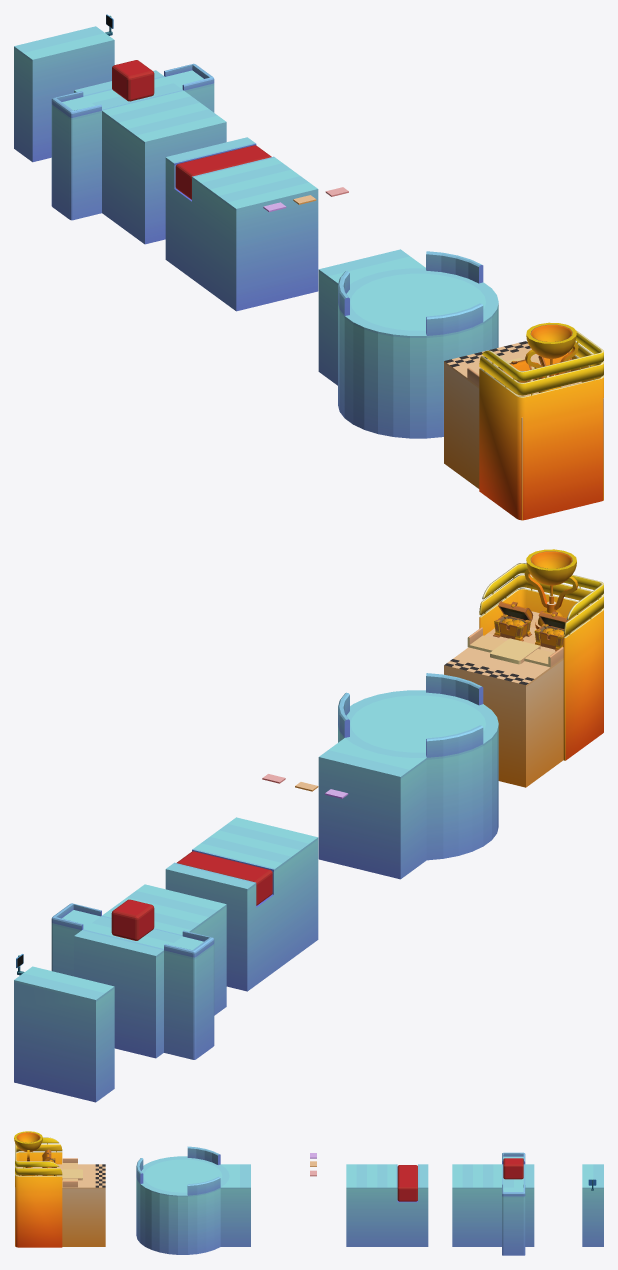
The model's file is mathparkour_assets_old.fbx.
3 views of the same model, one above another, from view 1: azimuth 30°, elevation 25°; view 2: azimuth 150°, elevation 25°; view 3: azimuth 270°, elevation 25° (orthographic). The views are drawn at different scales.
Parts seen in each view (by area): view 1: mathparkour_platform_final, mathparkour_platform_hole, mathparkour_platform_circle, mathparkour_platform_standart, mathparkour_platform_short, mathparkour_obstacle_standartplatform, mathparkour_platform_middle, mathparkour_platform_circle.top, mathparkour_cup, mathparkour_obstacle.hole, mathparkour_obstacle.standart; view 2: mathparkour_platform_final, mathparkour_platform_hole, mathparkour_platform_circle, mathparkour_platform_middle, mathparkour_platform_standart, mathparkour_platform_short, mathparkour_obstacle_standartplatform, mathparkour_platform_circle.top, mathparkour_cup, mathparkour_goldchests, mathparkour_platform_final.platform, mathparkour_obstacle.hole (+1 smaller); view 3: mathparkour_platform_final, mathparkour_platform_circle, mathparkour_platform_hole, mathparkour_platform_standart, mathparkour_platform_middle, mathparkour_obstacle_standartplatform, mathparkour_platform_short, mathparkour_platform_circle.top, mathparkour_obstacle.hole, mathparkour_cup, mathparkour_platform_final.platform, mathparkour_obstacle.standart.
Boxes of the visible parts, x1,y1,x2,y2 form: mathparkour_platform_final: [444, 330, 603, 520]; mathparkour_platform_hole: [165, 137, 318, 311]; mathparkour_platform_circle: [338, 268, 498, 438]; mathparkour_platform_standart: [74, 70, 226, 244]; mathparkour_platform_short: [14, 26, 114, 162]; mathparkour_obstacle_standartplatform: [51, 63, 214, 220]; mathparkour_platform_middle: [318, 249, 425, 385]; mathparkour_platform_circle.top: [338, 251, 483, 335]; mathparkour_cup: [525, 322, 578, 393]; mathparkour_obstacle.hole: [175, 145, 271, 199]; mathparkour_obstacle.standart: [112, 60, 154, 101]; mathparkour_platform_final: [444, 563, 603, 787]; mathparkour_platform_hole: [165, 817, 318, 991]; mathparkour_platform_circle: [338, 690, 498, 860]; mathparkour_platform_middle: [318, 738, 426, 879]; mathparkour_platform_standart: [74, 884, 226, 1058]; mathparkour_platform_short: [14, 966, 114, 1102]; mathparkour_obstacle_standartplatform: [51, 903, 214, 1059]; mathparkour_platform_circle.top: [338, 673, 483, 757]; mathparkour_cup: [524, 549, 578, 629]; mathparkour_goldchests: [493, 601, 570, 651]; mathparkour_platform_final.platform: [467, 627, 563, 667]; mathparkour_obstacle.hole: [177, 851, 272, 905]; mathparkour_platform_final: [15, 1137, 105, 1247]; mathparkour_platform_circle: [136, 1156, 229, 1254]; mathparkour_platform_hole: [346, 1164, 428, 1246]; mathparkour_platform_standart: [452, 1164, 534, 1246]; mathparkour_platform_middle: [220, 1164, 250, 1246]; mathparkour_obstacle_standartplatform: [502, 1152, 525, 1255]; mathparkour_platform_short: [582, 1164, 603, 1246]; mathparkour_platform_circle.top: [136, 1146, 220, 1195]; mathparkour_obstacle.hole: [397, 1165, 417, 1201]; mathparkour_cup: [14, 1131, 42, 1175]; mathparkour_platform_final.platform: [59, 1158, 82, 1187]; mathparkour_obstacle.standart: [503, 1158, 523, 1179].
Size of the model in its own units: 22.33 by 25.04 by 137.
